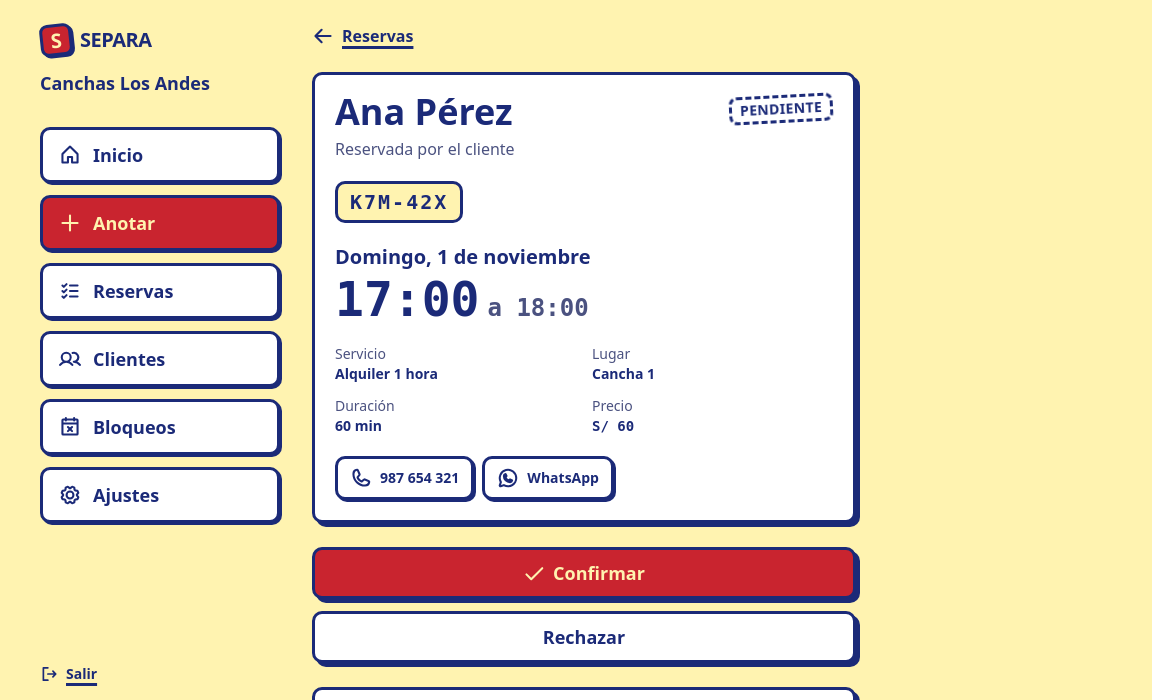
Test: what can be done with a booking › confirms or rejects one that is pending
Expected: the button "Rechazar" is shown, [312,611,856,663]
Click the button "Confirmar".
click(584, 573)  # box [312,547,856,599]
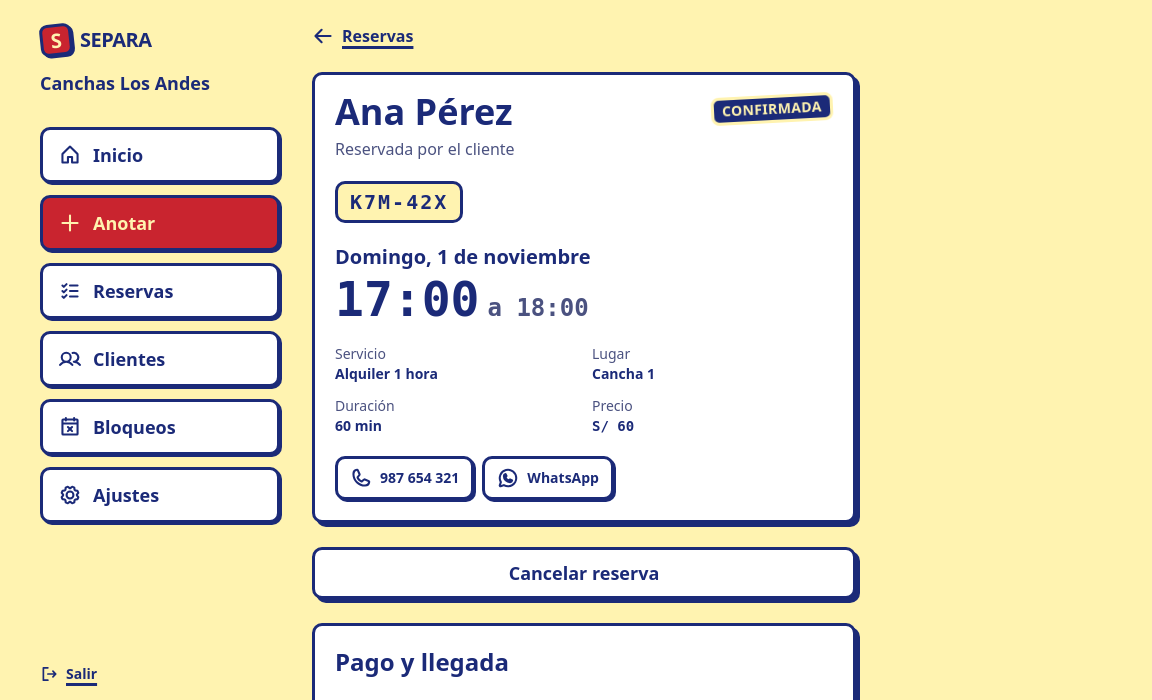
Result: the button "Cancelar reserva" is shown at [312,547,856,599]
Result: the button "Confirmar" is gone
